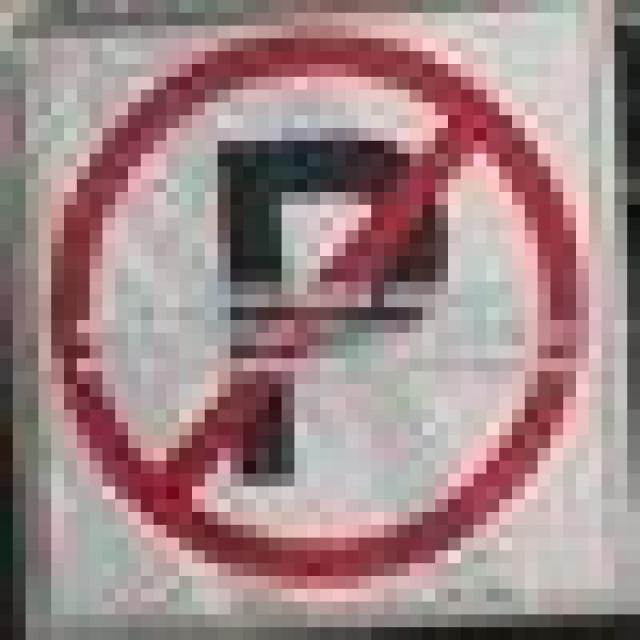do_not_enter: (26, 13, 576, 576)
